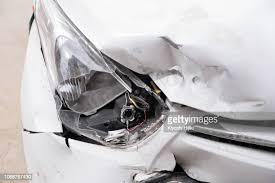Headlight-Damage: (13, 36, 158, 145)
bonnet-dent: (97, 0, 274, 115)
front-bumper-dent: (9, 122, 234, 182)
